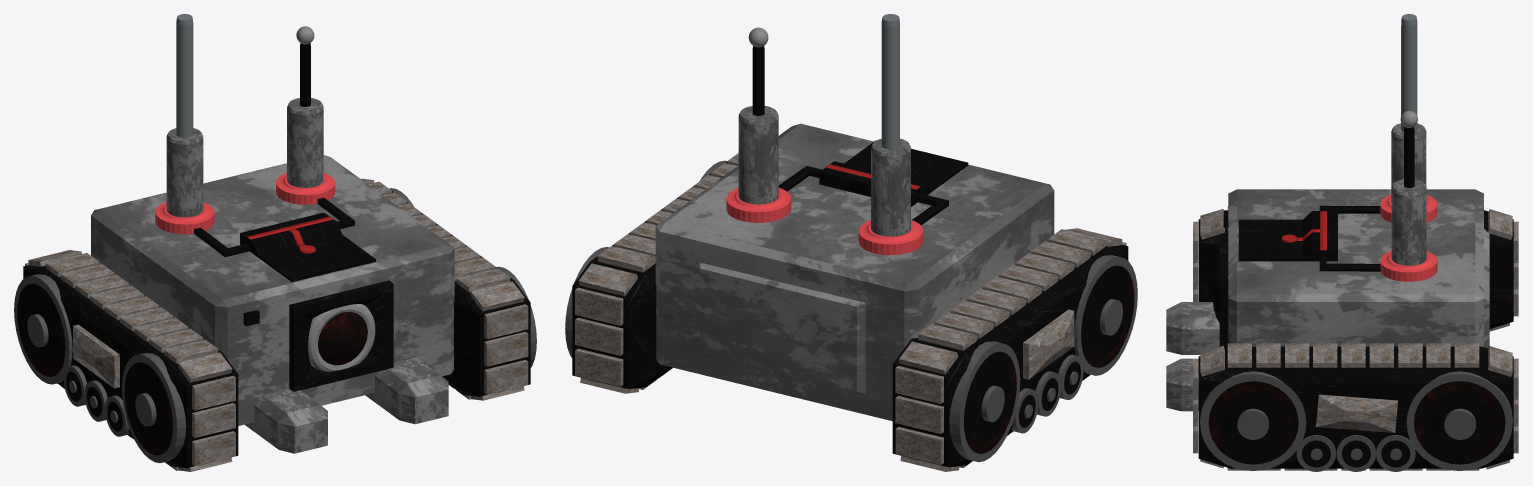
Rendered from inimigo.glb.
The picture shows the model from 3 angles, left to right: view 1: azimuth 30°, elevation 25°; view 2: azimuth 150°, elevation 25°; view 3: azimuth 270°, elevation 25°; orthographic projection. The views are drawn at different scales.
Visible parts, largest first — view 1: Cubo, Cubo.002, Cubo.033, Cubo.035, Cubo.001, Cubo.003, Cubo.004, Cilindro.001, Cilindro.002, Cilindro.005, Esfera UV, Cilindro.009 (+31 smaller); view 2: Cubo, Cubo.002, Cubo.001, Cilindro.002, Cilindro.001, Cubo.035, Cilindro.005, Cilindro.010, Cubo.009, Cilindro.009, Cilindro.014, Cilindro.011 (+27 smaller); view 3: Cubo, Cubo.001, Cubo.035, Cubo.002, Cilindro.002, Cilindro.015, Cilindro.018, Cilindro.016, Cubo.008, Cubo.003, Cilindro.017, Cilindro.019 (+31 smaller).
Part boxes in pixels (x1,y1,x2,y2): Cubo: [91, 155, 454, 425]; Cubo.002: [23, 265, 238, 467]; Cubo.033: [289, 280, 393, 391]; Cubo.035: [240, 212, 375, 281]; Cubo.001: [392, 191, 530, 396]; Cubo.003: [245, 388, 327, 453]; Cubo.004: [365, 357, 448, 424]; Cilindro.001: [166, 128, 203, 217]; Cilindro.002: [287, 98, 323, 187]; Cilindro.005: [176, 14, 193, 137]; Esfera UV: [318, 312, 367, 365]; Cilindro.009: [122, 353, 186, 462]; Cubo: [655, 123, 1054, 420]; Cubo.002: [892, 245, 1128, 467]; Cubo.001: [572, 161, 727, 389]; Cilindro.002: [738, 106, 778, 204]; Cilindro.001: [871, 138, 910, 236]; Cubo.035: [819, 140, 968, 206]; Cilindro.005: [881, 14, 899, 149]; Cilindro.010: [949, 341, 1020, 462]; Cubo.009: [1023, 309, 1074, 379]; Cilindro.009: [1074, 255, 1137, 375]; Cilindro.014: [1081, 265, 1134, 367]; Cilindro.011: [964, 351, 1016, 453]; Cubo: [1228, 189, 1489, 348]; Cubo.001: [1198, 346, 1513, 468]; Cubo.035: [1238, 211, 1337, 261]; Cubo.002: [1198, 210, 1513, 328]; Cilindro.002: [1391, 179, 1426, 265]; Cilindro.015: [1425, 391, 1493, 454]; Cilindro.018: [1219, 391, 1287, 454]; Cilindro.016: [1414, 381, 1505, 464]; Cubo.008: [1316, 394, 1397, 432]; Cubo.003: [1166, 302, 1219, 354]; Cilindro.017: [1208, 381, 1298, 464]; Cilindro.019: [1200, 371, 1306, 470].
Size of the model in its own units: 2.11 by 1.94 by 1.79.
32 materials, 6 textured.
